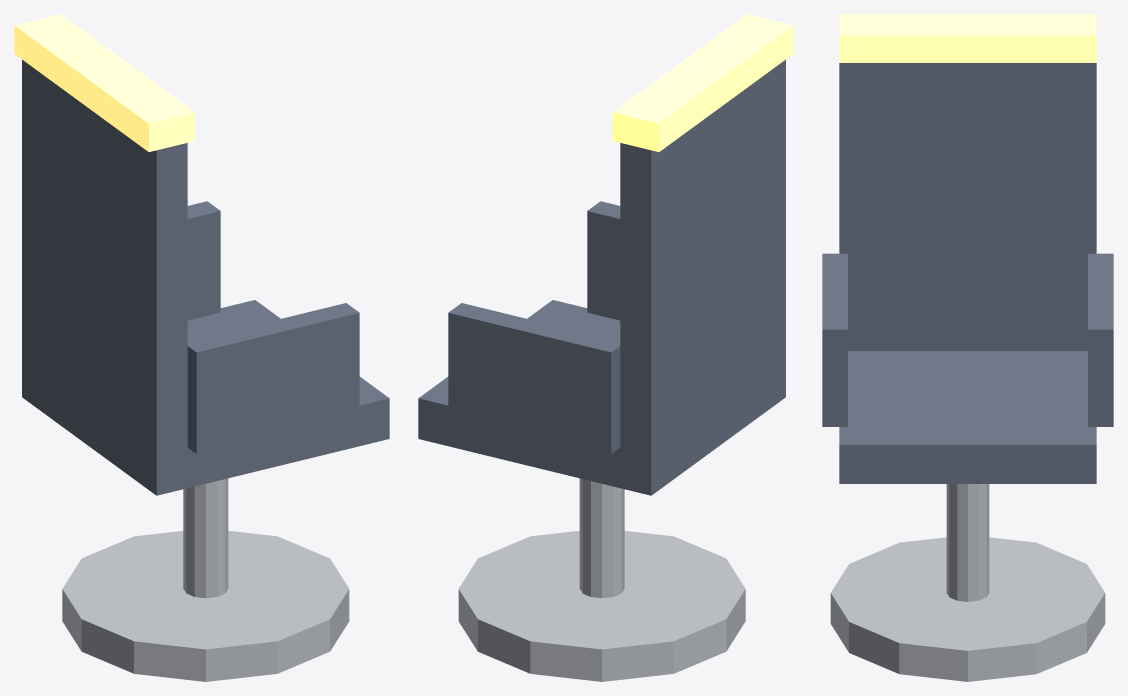
The model's file is wing-steward-seat.glb.
3 renders of one model, left to right at view 1: azimuth 30°, elevation 25°; view 2: azimuth 150°, elevation 25°; view 3: azimuth 270°, elevation 25°, orthographic. The views are drawn at different scales.
Visible parts, largest first — view 1: Steward seat; view 2: Steward seat; view 3: Steward seat.
Boxes of the visible parts, box(x1,y1,x2,y2) form: Steward seat: box(14, 14, 389, 681); Steward seat: box(418, 14, 793, 681); Steward seat: box(822, 14, 1113, 681).
Size of the model in its own units: 0.64 by 1.42 by 0.68.
